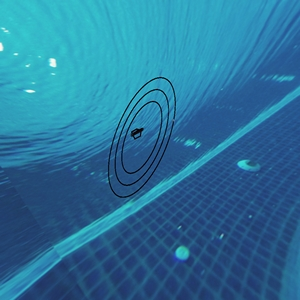submarine: (131, 126, 143, 139)
